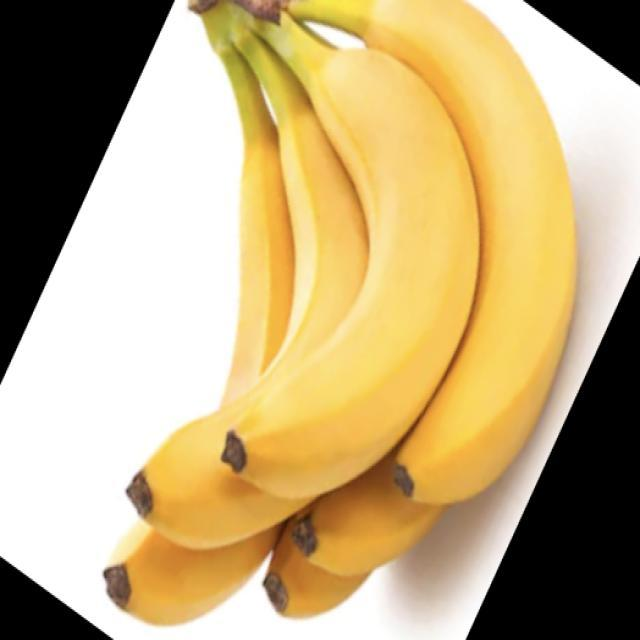Banana: (102, 0, 578, 625)
